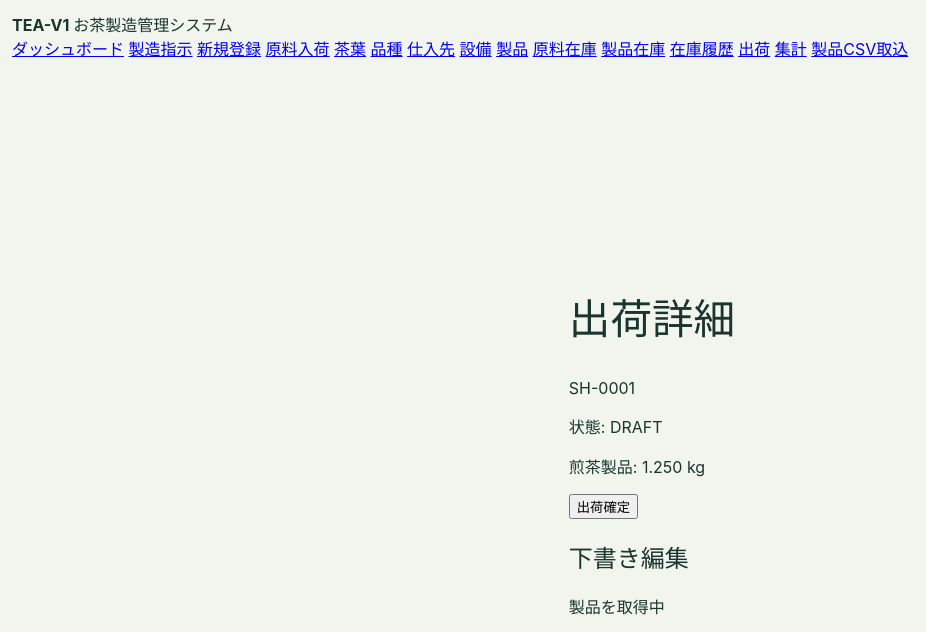
出荷確定成功後に詳細を確定済みへ更新する
The image size is (926, 632).
Click the button "出荷確定": click(603, 507) [569,494,638,519]
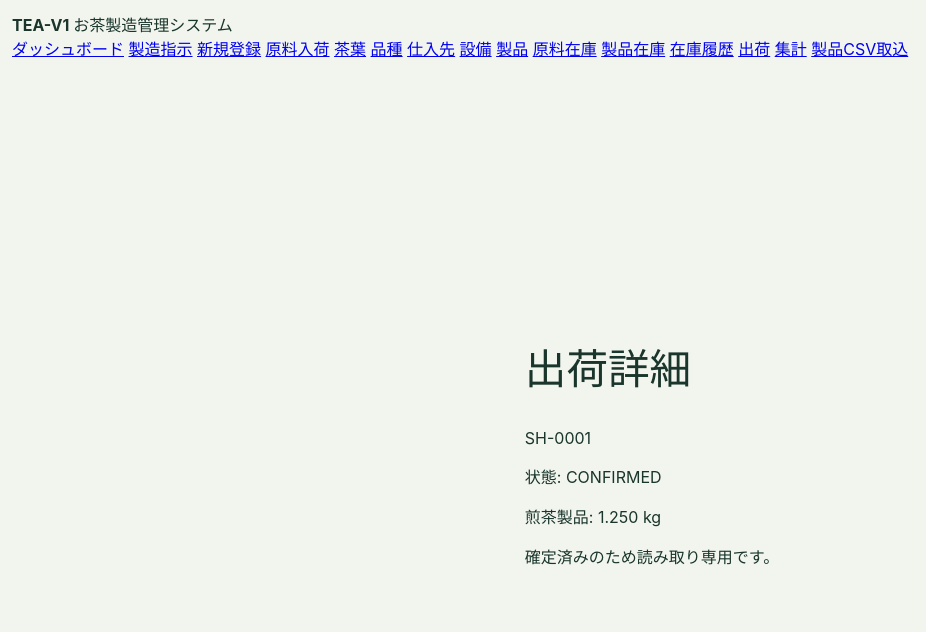
expect the text "確定済みのため読み取り専用です。" is shown: met, box [525,544,779,568]
